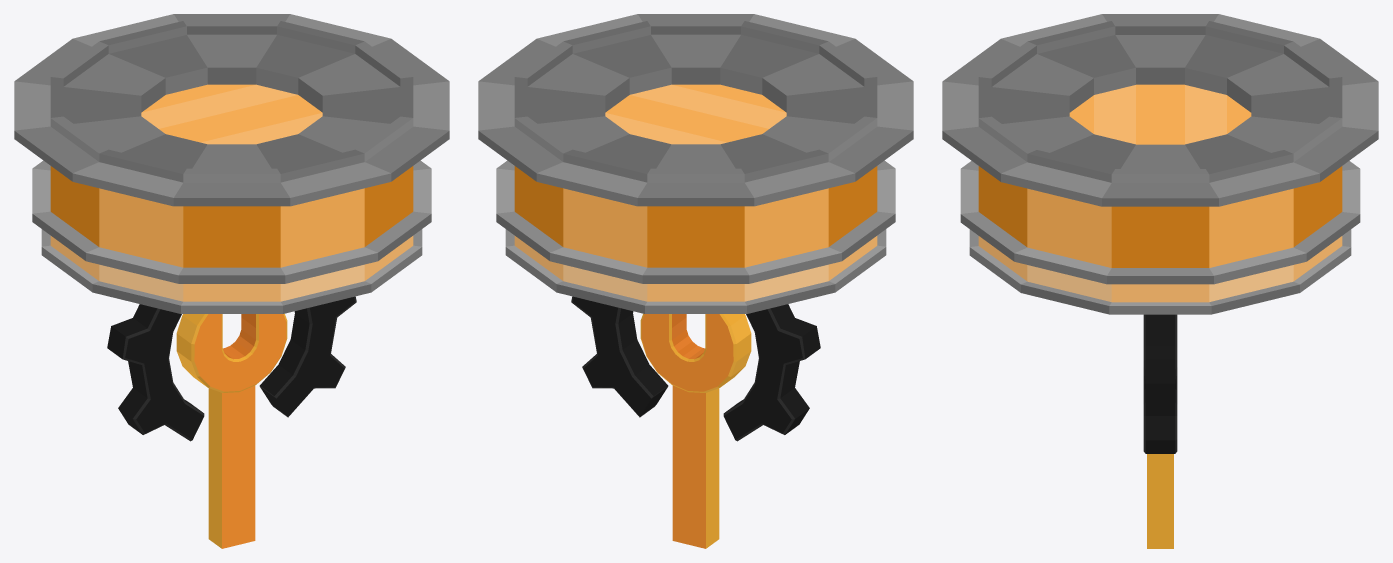
Rendered from racing_pit.glb.
The picture shows the model from 3 angles, left to right: view 1: azimuth 30°, elevation 25°; view 2: azimuth 150°, elevation 25°; view 3: azimuth 270°, elevation 25°; orthographic projection.
Visible parts, largest first — view 1: racing_pit_top, racing_pit_logo_in, racing_pit_logo_out; view 2: racing_pit_top, racing_pit_logo_in, racing_pit_logo_out; view 3: racing_pit_top, racing_pit_logo_out, racing_pit_logo_in.
Boxes of the visible parts, box(x1,y1,x2,y2) form: racing_pit_top: box(14, 14, 449, 313); racing_pit_logo_in: box(176, 314, 287, 548); racing_pit_logo_out: box(107, 296, 356, 441); racing_pit_top: box(478, 14, 913, 313); racing_pit_logo_in: box(640, 314, 751, 548); racing_pit_logo_out: box(571, 296, 820, 441); racing_pit_top: box(942, 14, 1378, 314); racing_pit_logo_out: box(1143, 314, 1177, 453); racing_pit_logo_in: box(1147, 454, 1173, 548).
Size of the model in its own units: 23.18 by 26 by 23.18.
1 material, 1 textured.
